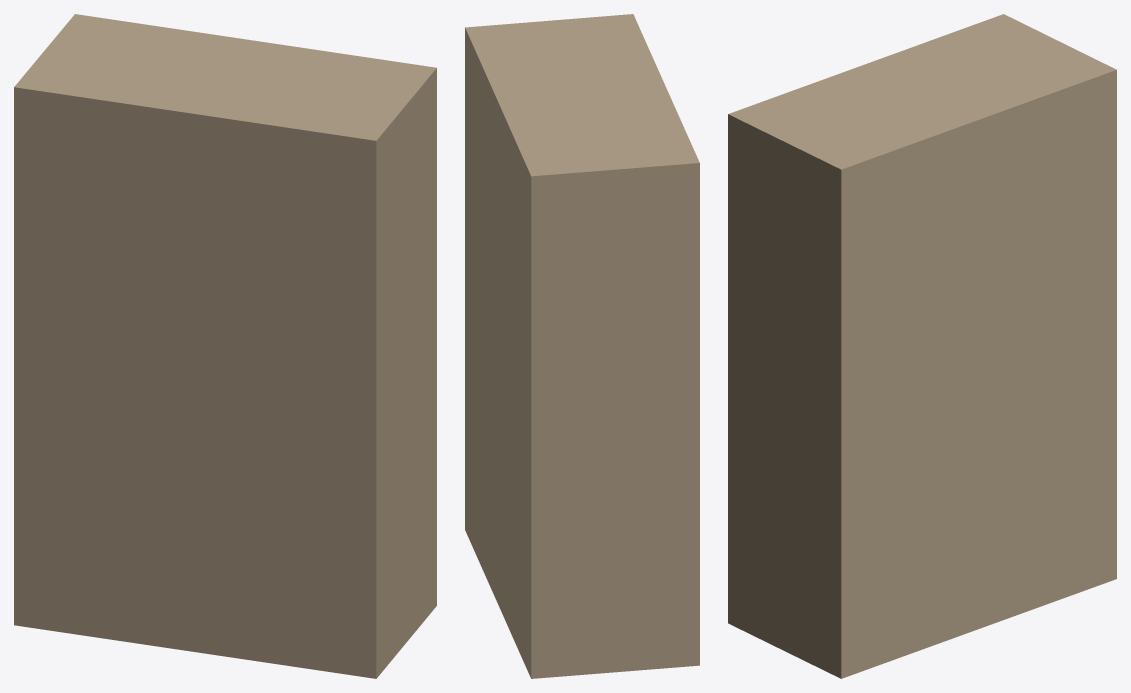
The model's file is bld_100478235.dae.
3 views of the same model, side by side, from view 1: azimuth 30°, elevation 25°; view 2: azimuth 150°, elevation 25°; view 3: azimuth 270°, elevation 25° (orthographic). The views are drawn at different scales.
Parts seen in each view (by area): view 1: bld_100478235; view 2: bld_100478235; view 3: bld_100478235.
Boxes of the visible parts, box(x1,y1,x2,y2) form: bld_100478235: box(14, 14, 436, 678); bld_100478235: box(465, 14, 699, 678); bld_100478235: box(728, 14, 1116, 678).
Size of the model in its own units: 5.24 by 5.54 by 8.
